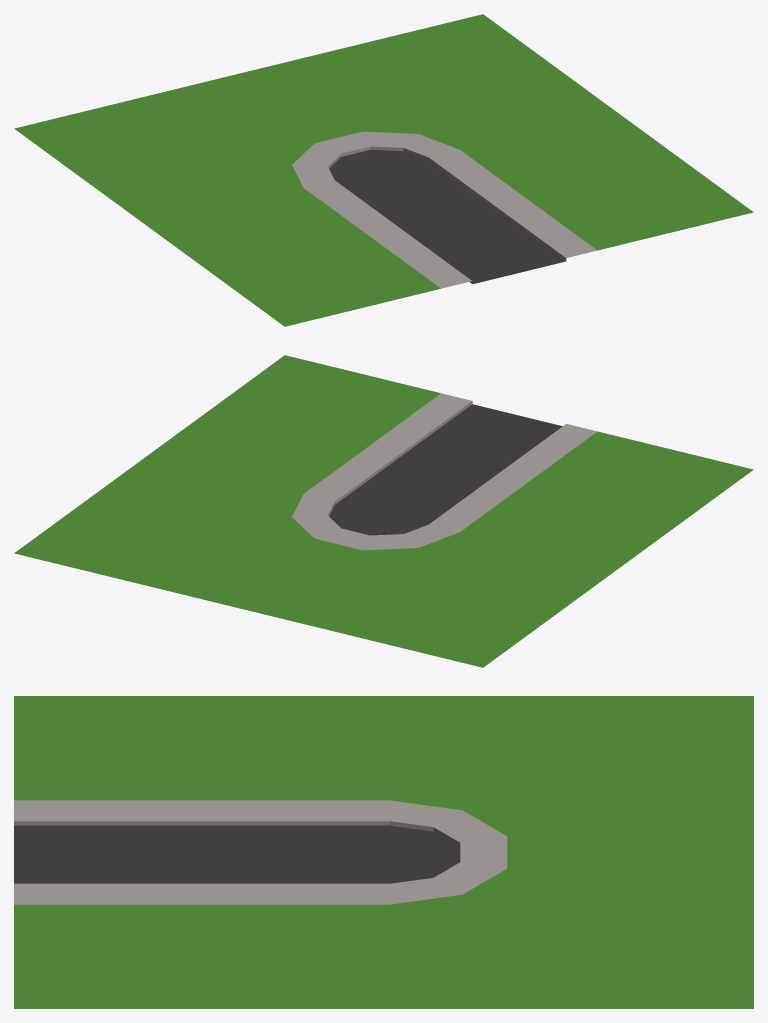
File: tiles-nb_tile-road-end-nb.fbx
The picture shows the model from 3 angles, top to bottom: view 1: azimuth 30°, elevation 25°; view 2: azimuth 150°, elevation 25°; view 3: azimuth 270°, elevation 25°; orthographic projection. The views are drawn at different scales.
Parts seen in each view (by area): view 1: tiles_nb_tile_road_end_nb; view 2: tiles_nb_tile_road_end_nb; view 3: tiles_nb_tile_road_end_nb.
Boxes of the visible parts, <box> form: tiles_nb_tile_road_end_nb: <box>14,14,753,326</box>; tiles_nb_tile_road_end_nb: <box>14,355,753,667</box>; tiles_nb_tile_road_end_nb: <box>14,696,753,1008</box>.
Size of the model in its own units: 200 by 1.33 by 200.
